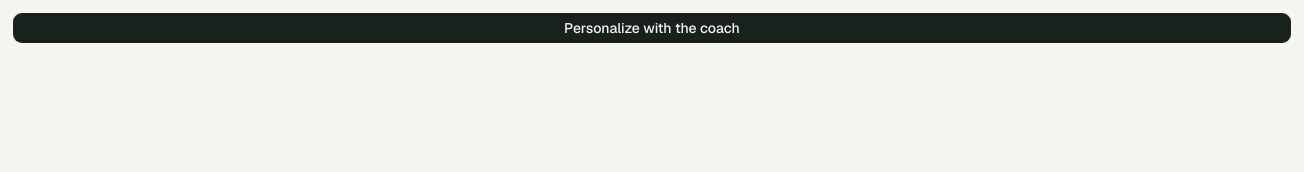
Test: PersonalizeButton › shows a saved plan as a status message
This screenshot has width=1304, height=172.
Click the button "Personalize with the coach".
click(652, 28)  # box [12,12,1292,44]
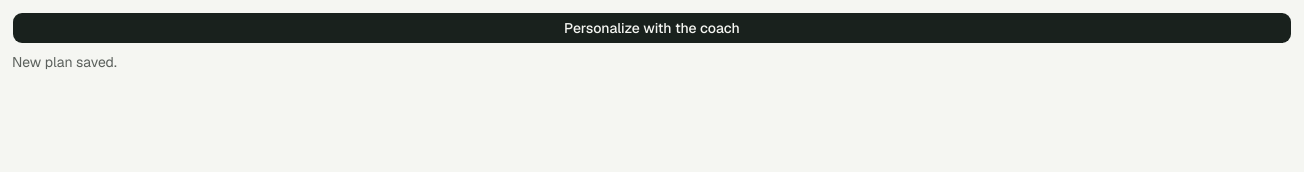
Expected: the message reads "New plan saved.", [12,53,117,71]
